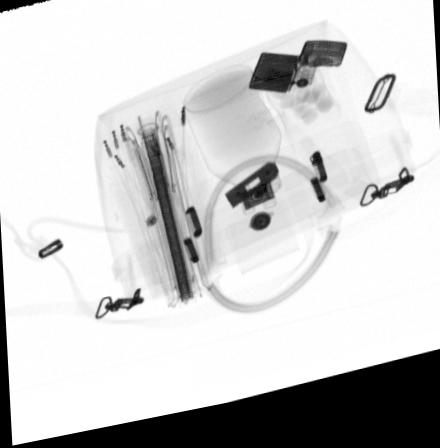Lighter: (247, 51, 347, 104)
